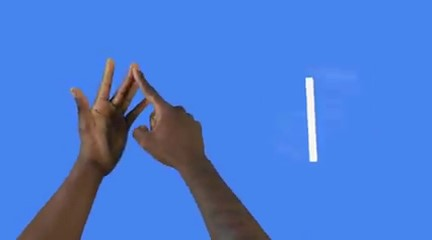I: (63, 52, 229, 184)
